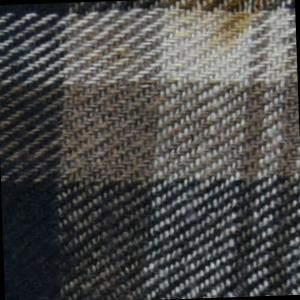Oil Stain: (154, 1, 296, 59)
